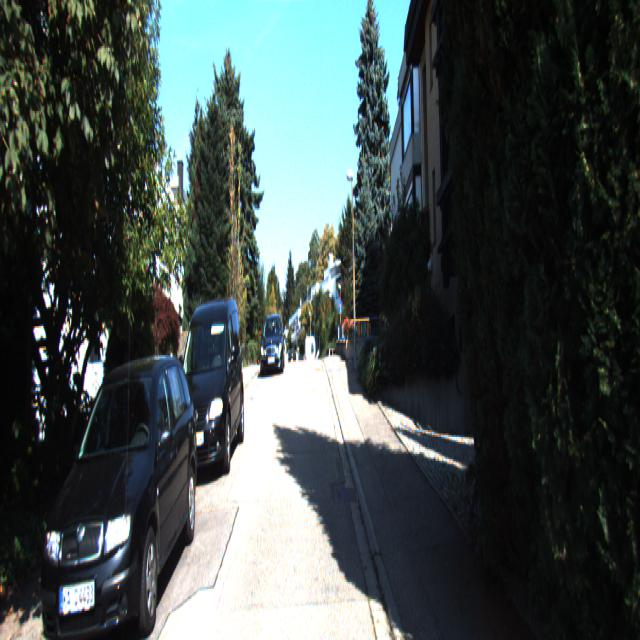Car: (40, 346, 200, 638), (170, 288, 246, 482), (259, 310, 286, 374)
